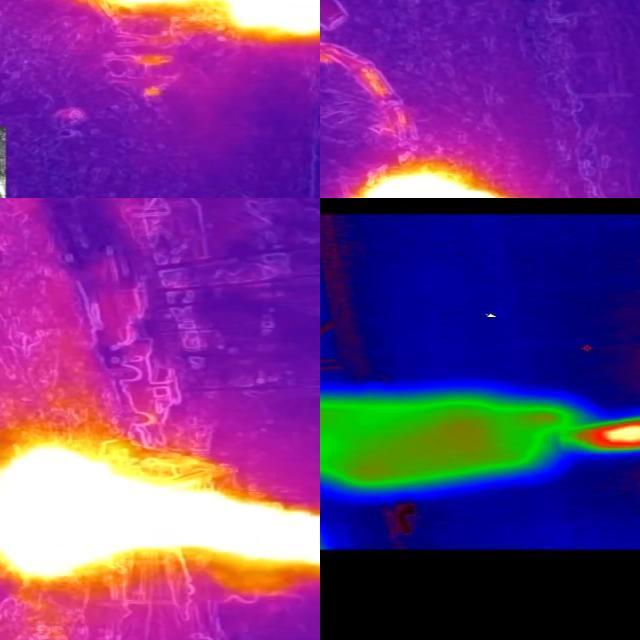fire: (1, 439, 321, 581), (346, 165, 504, 199), (224, 2, 322, 44), (565, 413, 640, 451)
